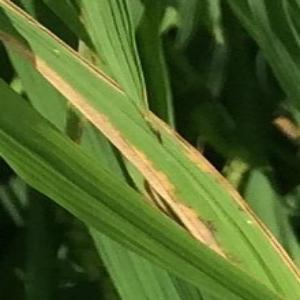2 BacterialBlight: (146, 113, 234, 258)
